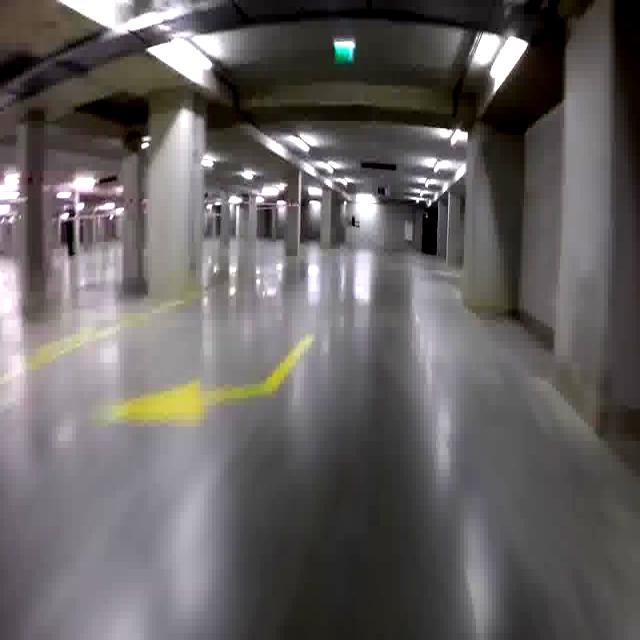drone: (346, 204, 360, 240)
